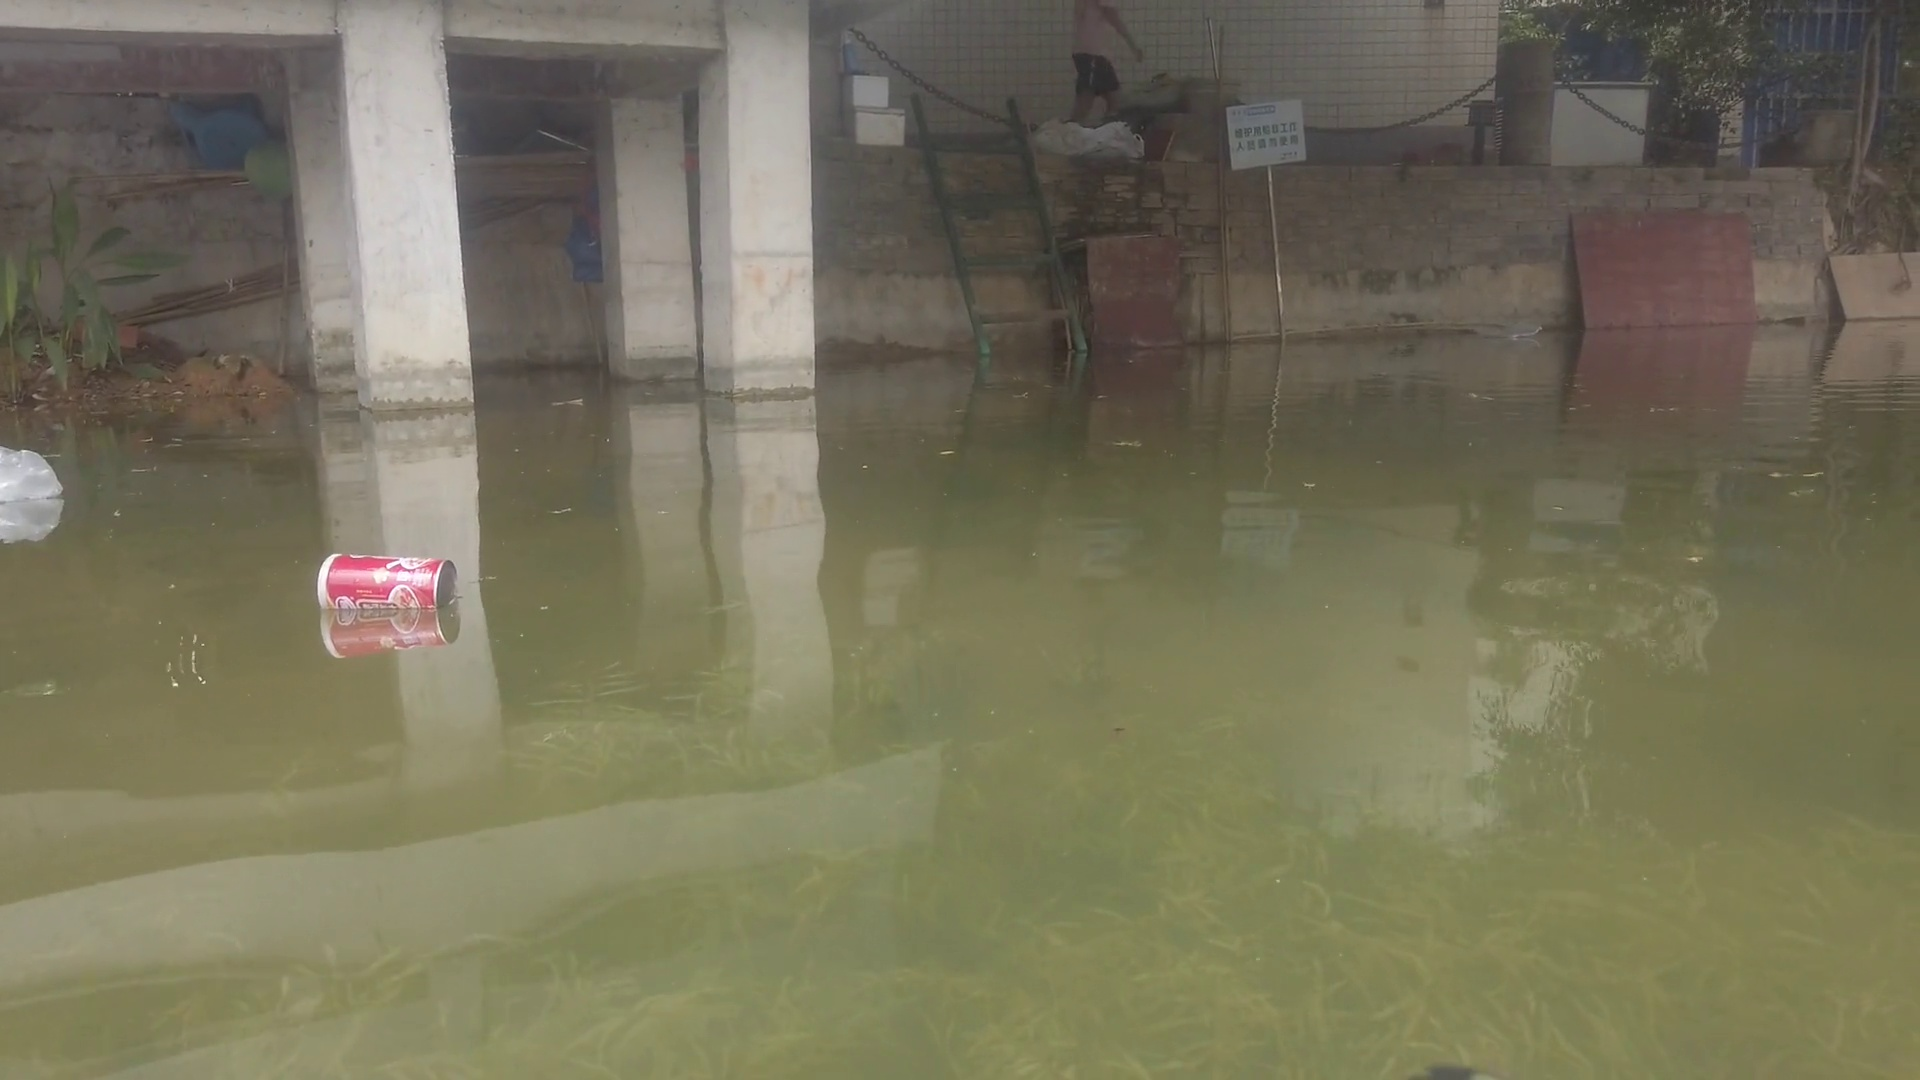bottle: (315, 553, 459, 607)
plastic: (1, 439, 73, 501)
